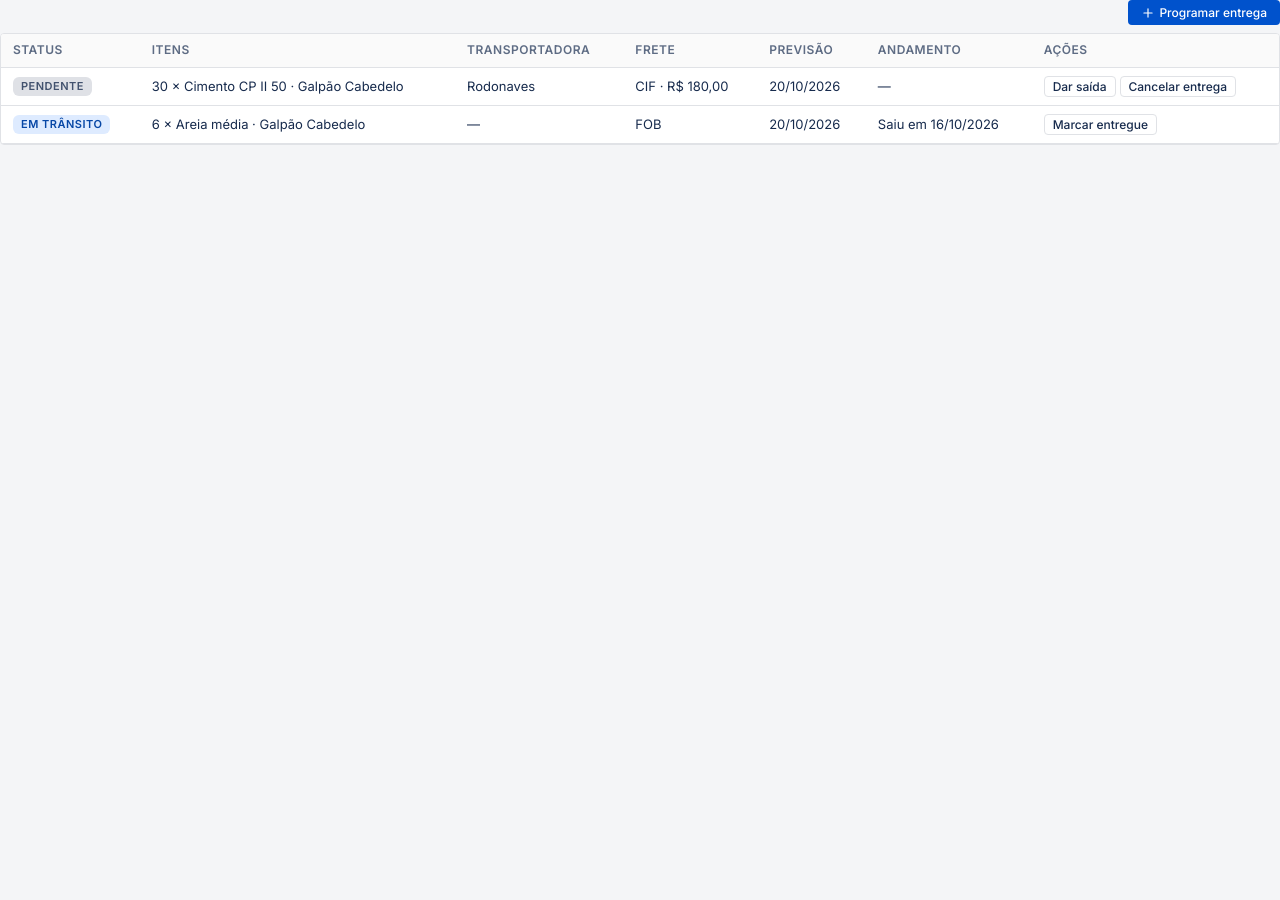
Test: EntregasDoPedido › mostra o saldo insuficiente na saída sem fechar
Click the button "Dar saída". click: [1080, 86]
box: [1044, 76, 1116, 97]
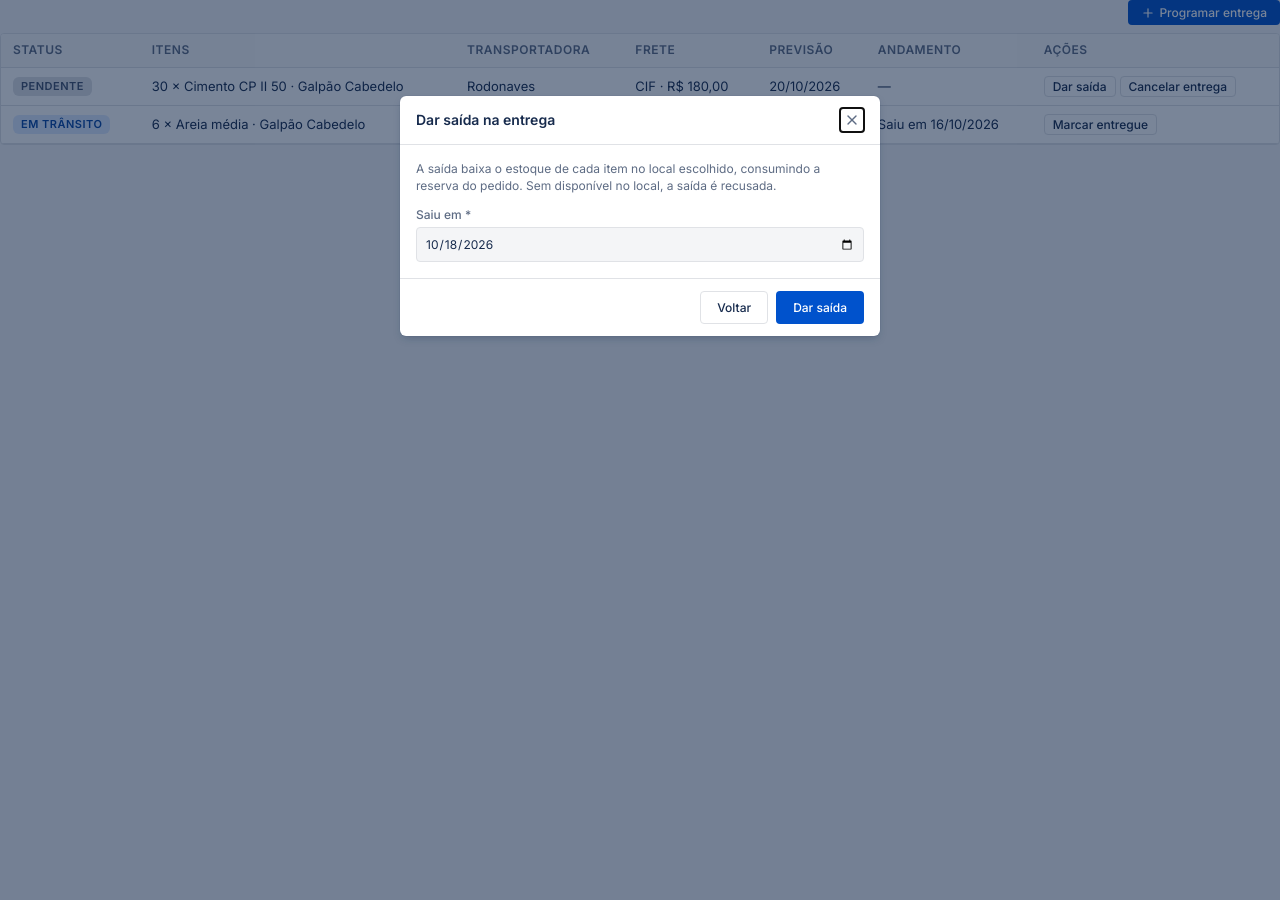
Click the button "Dar saída". click: [820, 308]
box: [776, 291, 864, 324]
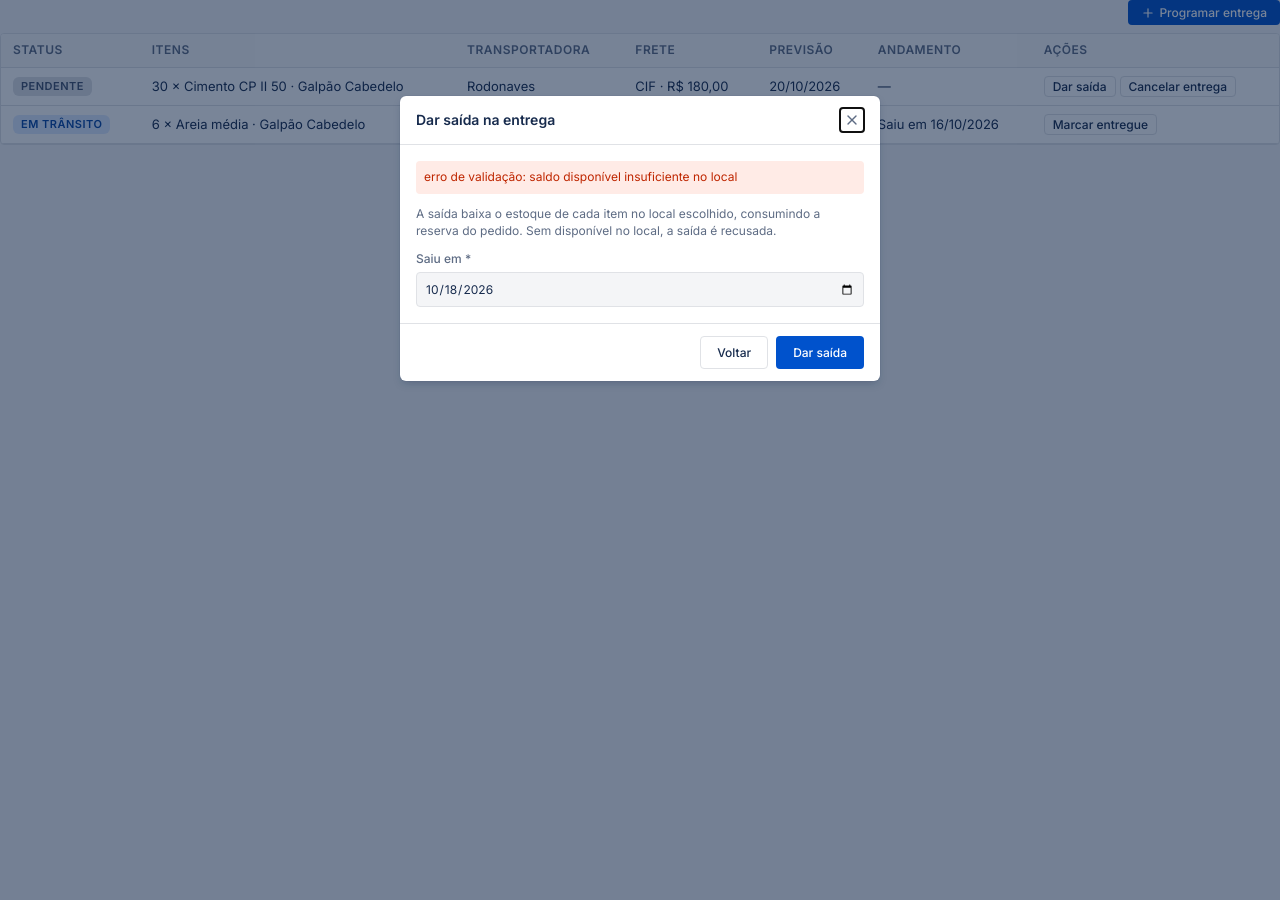
Now the text "erro de validação: saldo disponível insuficiente no local" is shown, box [416, 161, 864, 194]
